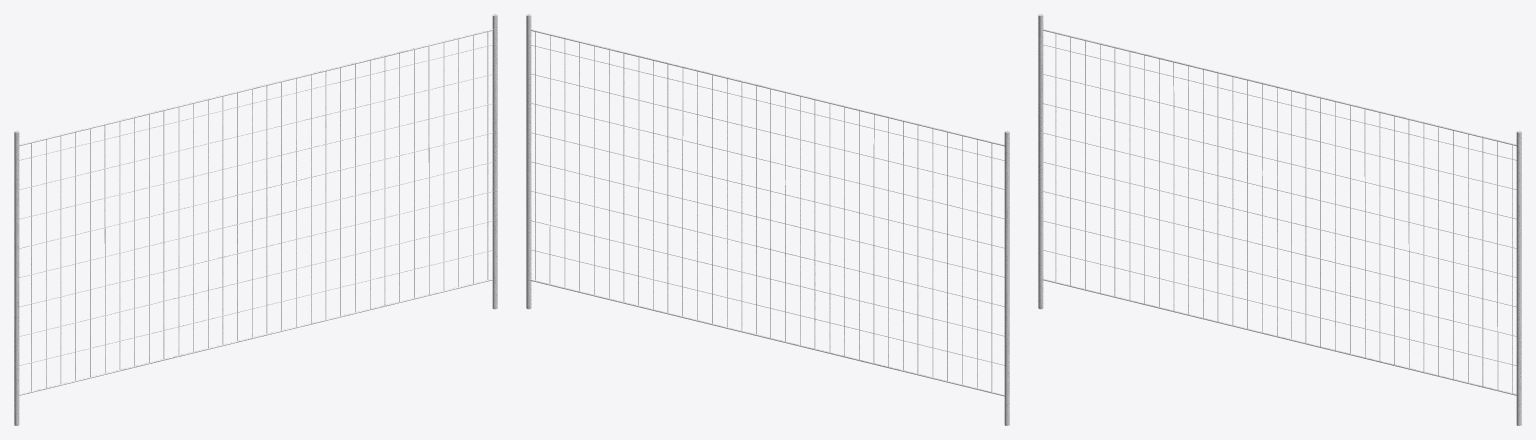
3 renders of one model, left to right at view 1: azimuth 30°, elevation 25°; view 2: azimuth 150°, elevation 25°; view 3: azimuth 330°, elevation 25°, orthographic.
Parts seen in each view (by area): view 1: group_0, group_1, group_2, group_3, group_9, group_8, group_10, group_4, group_6, group_7, group_11, group_5 (+10 smaller); view 2: group_0, group_1, group_2, group_3, group_4, group_6, group_10, group_11, group_7, group_9, group_8, group_5 (+10 smaller); view 3: group_1, group_0, group_2, group_3, group_6, group_8, group_11, group_4, group_7, group_9, group_10, group_5 (+10 smaller).
Part boxes in pixels (<box>): group_0: <box>14,130,19,425</box>; group_1: <box>492,14,497,309</box>; group_2: <box>19,29,492,145</box>; group_3: <box>19,278,492,395</box>; group_9: <box>19,191,493,306</box>; group_8: <box>19,161,492,277</box>; group_10: <box>19,220,492,336</box>; group_4: <box>19,44,492,160</box>; group_6: <box>19,103,492,219</box>; group_7: <box>19,132,492,248</box>; group_11: <box>19,250,492,365</box>; group_5: <box>19,74,492,189</box>; group_0: <box>1004,130,1009,425</box>; group_1: <box>526,14,531,309</box>; group_2: <box>530,29,1004,146</box>; group_3: <box>530,279,1004,396</box>; group_4: <box>531,45,1004,160</box>; group_6: <box>531,103,1004,218</box>; group_10: <box>531,220,1004,336</box>; group_11: <box>531,249,1004,365</box>; group_7: <box>531,132,1004,248</box>; group_9: <box>531,191,1004,306</box>; group_8: <box>531,161,1004,277</box>; group_5: <box>531,73,1004,189</box>; group_1: <box>1516,130,1521,425</box>; group_0: <box>1038,14,1043,309</box>; group_2: <box>1043,29,1516,145</box>; group_3: <box>1043,278,1516,395</box>; group_6: <box>1043,103,1516,219</box>; group_8: <box>1043,161,1516,277</box>; group_11: <box>1043,250,1516,365</box>; group_4: <box>1043,44,1516,160</box>; group_7: <box>1043,132,1516,248</box>; group_9: <box>1042,191,1516,306</box>; group_10: <box>1043,220,1516,336</box>; group_5: <box>1043,74,1516,189</box>.
Size of the model in its own units: 136 by 1.19 by 78.74.
